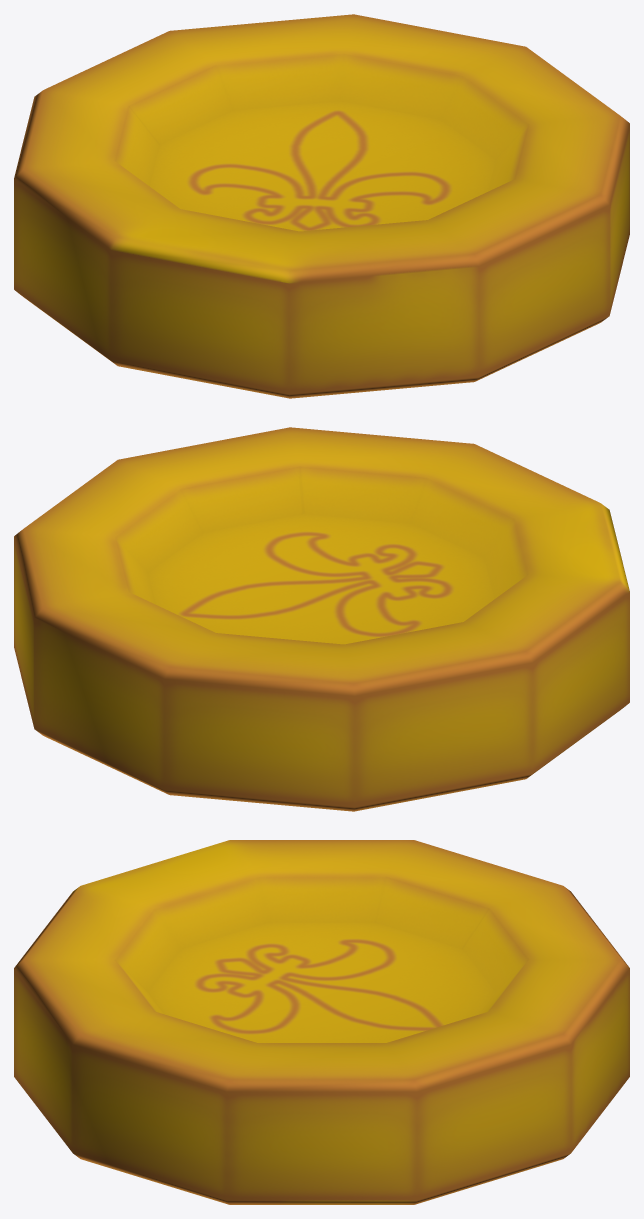
File: coin.fbx
The picture shows the model from 3 angles, top to bottom: view 1: azimuth 30°, elevation 25°; view 2: azimuth 150°, elevation 25°; view 3: azimuth 270°, elevation 25°; orthographic projection. The views are drawn at different scales.
Parts seen in each view (by area): view 1: coin; view 2: coin; view 3: coin.
Part boxes in pixels (<box>): coin: <box>14,14,629,398</box>; coin: <box>14,427,629,811</box>; coin: <box>14,840,629,1204</box>.
Size of the model in its own units: 190 by 44.81 by 200.
